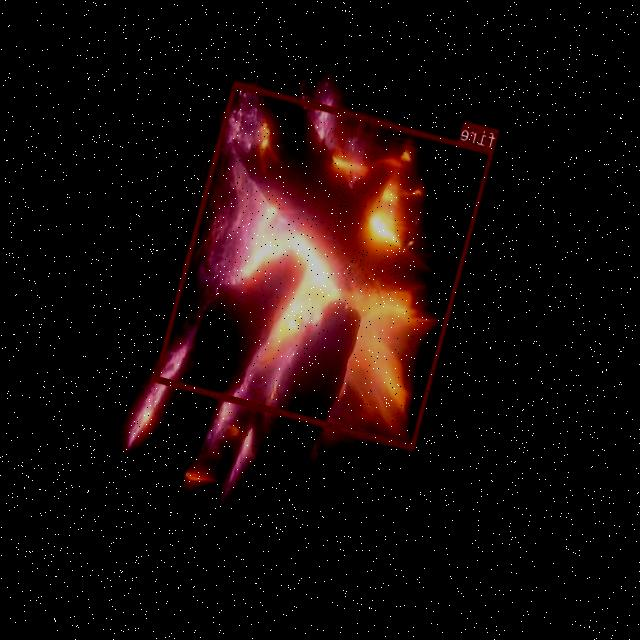fire: (155, 80, 494, 450)
